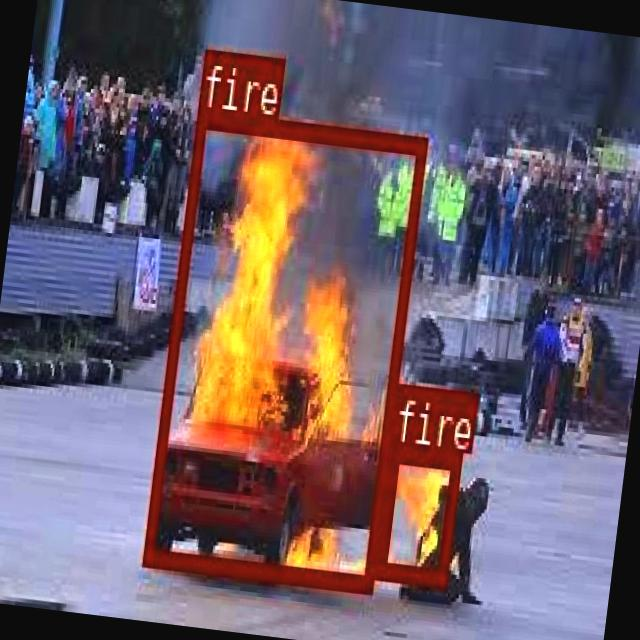fire: (140, 108, 427, 587), (374, 440, 460, 585)
